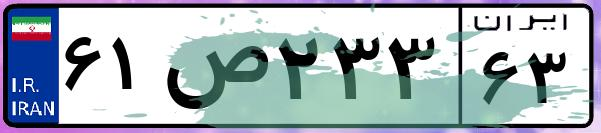1: (110, 28, 158, 98)
2: (270, 28, 330, 110)
3: (385, 28, 445, 110), (330, 28, 385, 110), (525, 38, 570, 115)
6: (57, 26, 110, 100), (475, 38, 525, 113)
ص: (158, 20, 270, 120)
